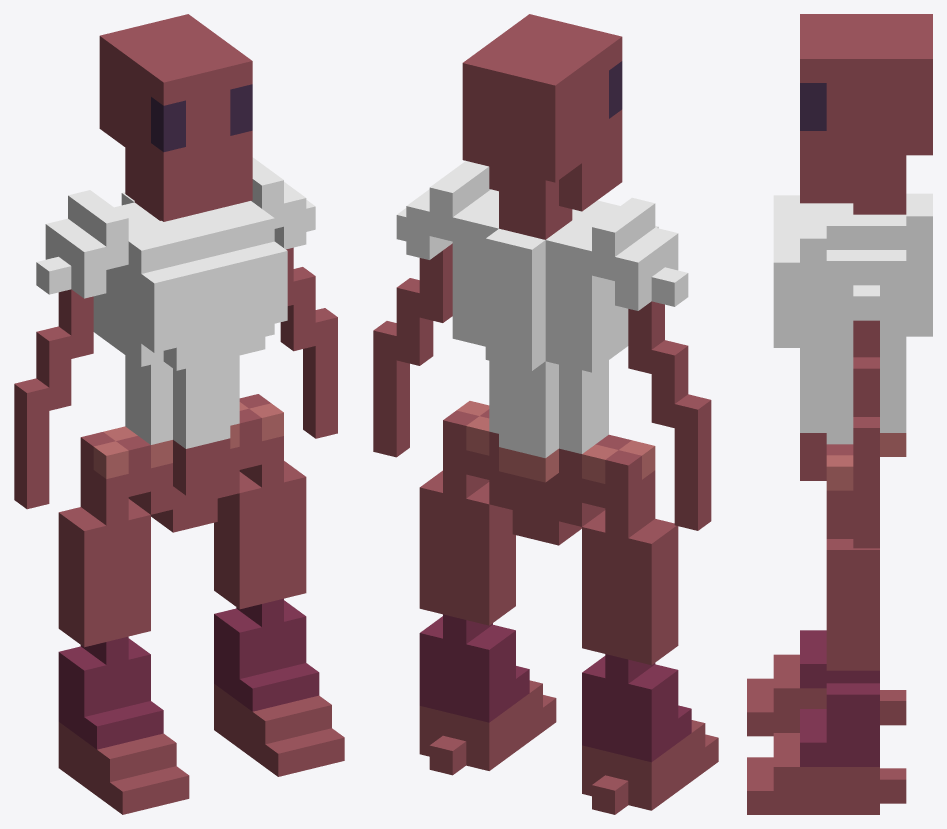
File: human_base_colored.obj
3 views of the same model, side by side, from view 1: azimuth 30°, elevation 25°; view 2: azimuth 150°, elevation 25°; view 3: azimuth 270°, elevation 25° (orthographic). The views are drawn at different scales.
Visible parts, largest first — view 1: human_base_colored; view 2: human_base_colored; view 3: human_base_colored.
Part boxes in pixels (x1=…): human_base_colored: x1=14, y1=14, x2=344, y2=814; human_base_colored: x1=373, y1=14, x2=718, y2=814; human_base_colored: x1=747, y1=14, x2=932, y2=814.
Bounding box in the file's own units: 9.69 × 20.75 × 4.84.
1 material, 1 textured.
